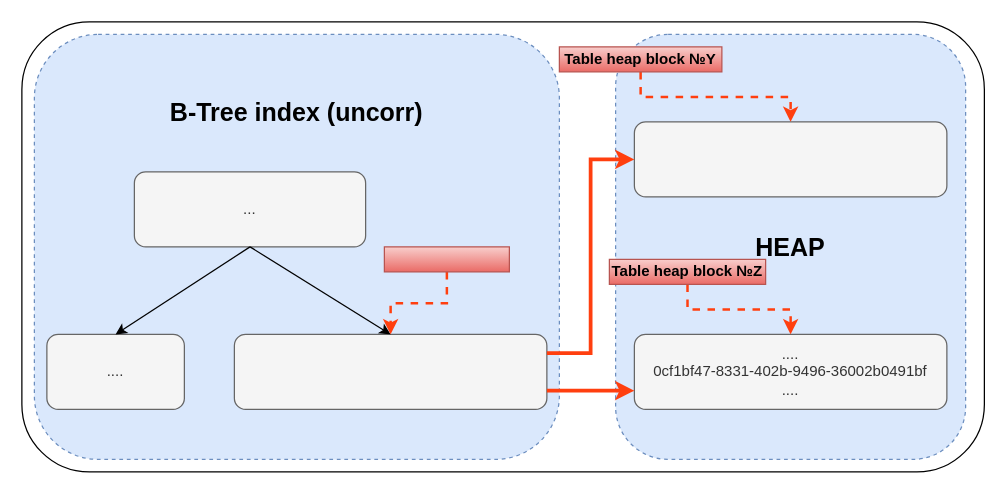
Some shapes in this 1006 by 494 pixel diagram are drawn without their labels. Each missing label, with the centre of its shape:
... 0cf1bf47-8331-402b-9496-36002b0491bf ...: the point at 790,159
0cf1bf47-8331-402b-9496-36002b0491bf .... 0cfda4e6-e6b0-48f9-8e95-8d0decdf3c54: the point at 390,371
Index block №X: the point at 446,259
